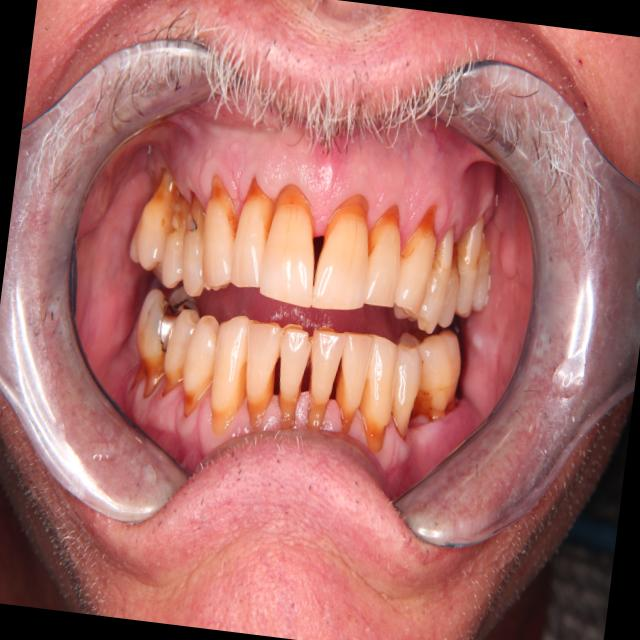tooth: (237, 165, 339, 325), (303, 188, 382, 326), (196, 301, 265, 446), (216, 161, 286, 301), (183, 164, 253, 299), (379, 189, 445, 327), (392, 322, 473, 427), (350, 319, 408, 456), (124, 154, 179, 291), (259, 317, 324, 432), (229, 314, 291, 434), (294, 318, 355, 436), (354, 197, 412, 319), (127, 279, 183, 404), (173, 305, 226, 430), (415, 208, 462, 337), (325, 325, 378, 439), (168, 184, 218, 304), (443, 204, 490, 324), (153, 302, 204, 409), (154, 178, 198, 302), (382, 341, 429, 451), (464, 210, 503, 324), (434, 236, 470, 338)
